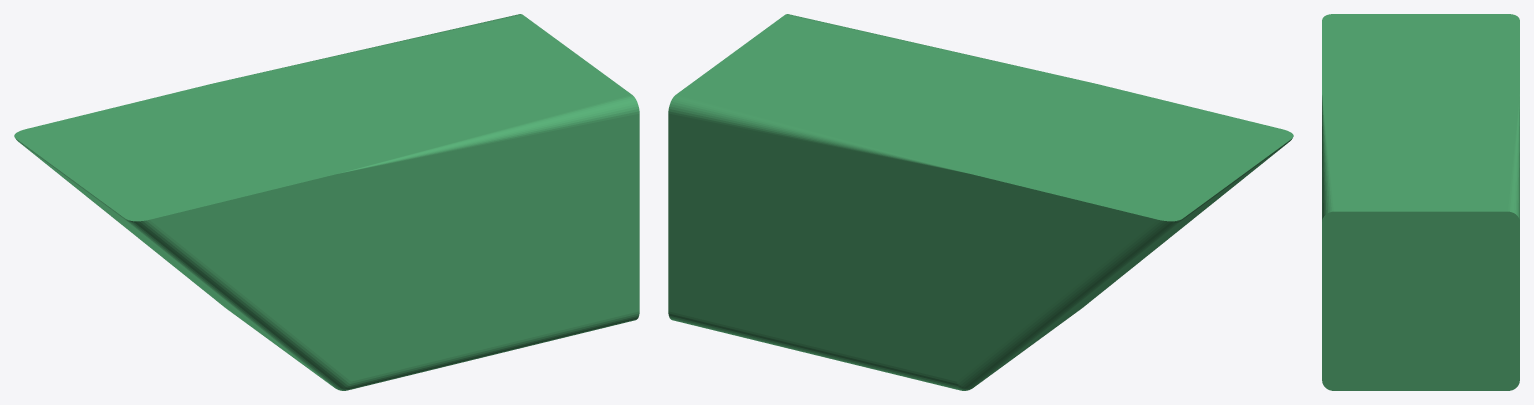
3 renders of one model, left to right at view 1: azimuth 30°, elevation 25°; view 2: azimuth 150°, elevation 25°; view 3: azimuth 270°, elevation 25°, orthographic. The views are drawn at different scales.
Size of the model in its own units: 0.0901 by 0.0381 by 0.0381.
